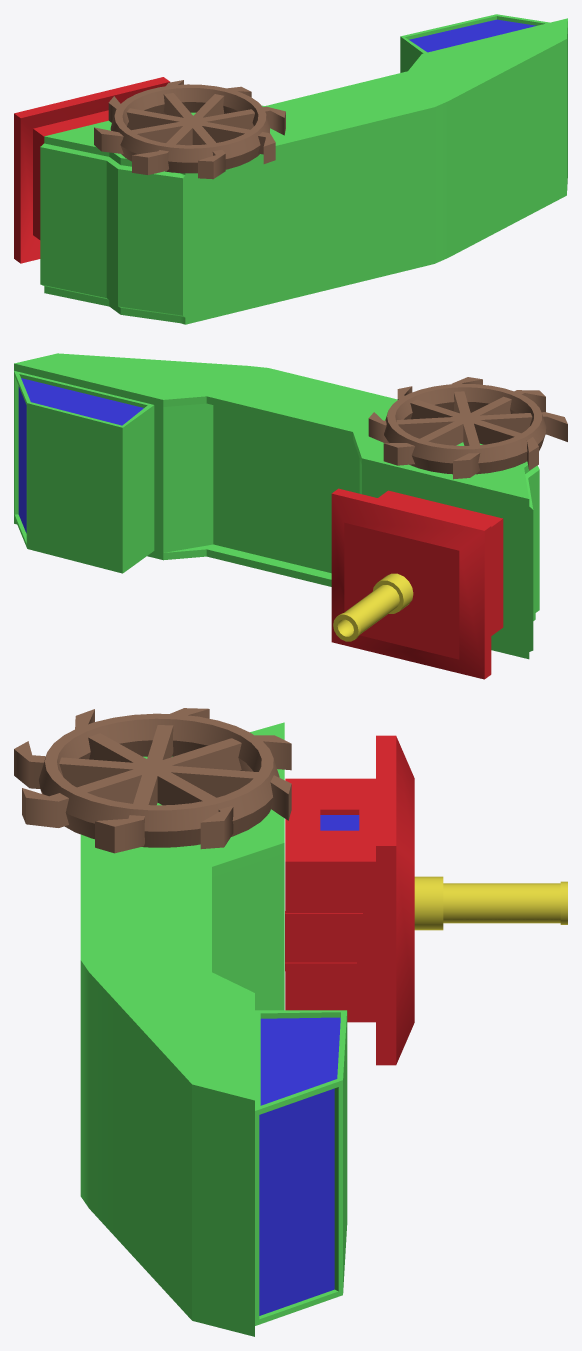
File: wholeBoat.fbx
The picture shows the model from 3 angles, top to bottom: view 1: azimuth 30°, elevation 25°; view 2: azimuth 150°, elevation 25°; view 3: azimuth 270°, elevation 25°; orthographic projection. The views are drawn at different scales.
Parts seen in each view (by area): view 1: boat; view 2: boat; view 3: boat.
Boxes of the visible parts, x1=… form: boat: x1=14, y1=14, x2=567, y2=324; boat: x1=14, y1=353, x2=567, y2=679; boat: x1=14, y1=708, x2=567, y2=1336.
Size of the model in its own units: 30.7 by 10.28 by 18.86.
